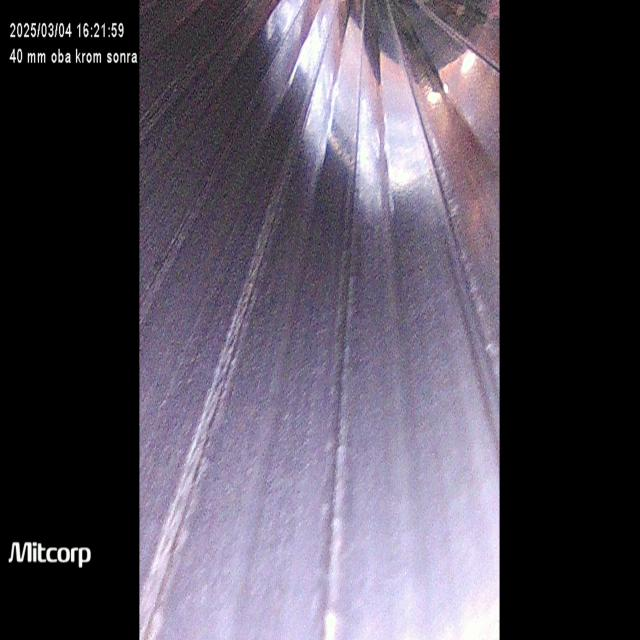hata_8.1: (137, 174, 298, 640)
